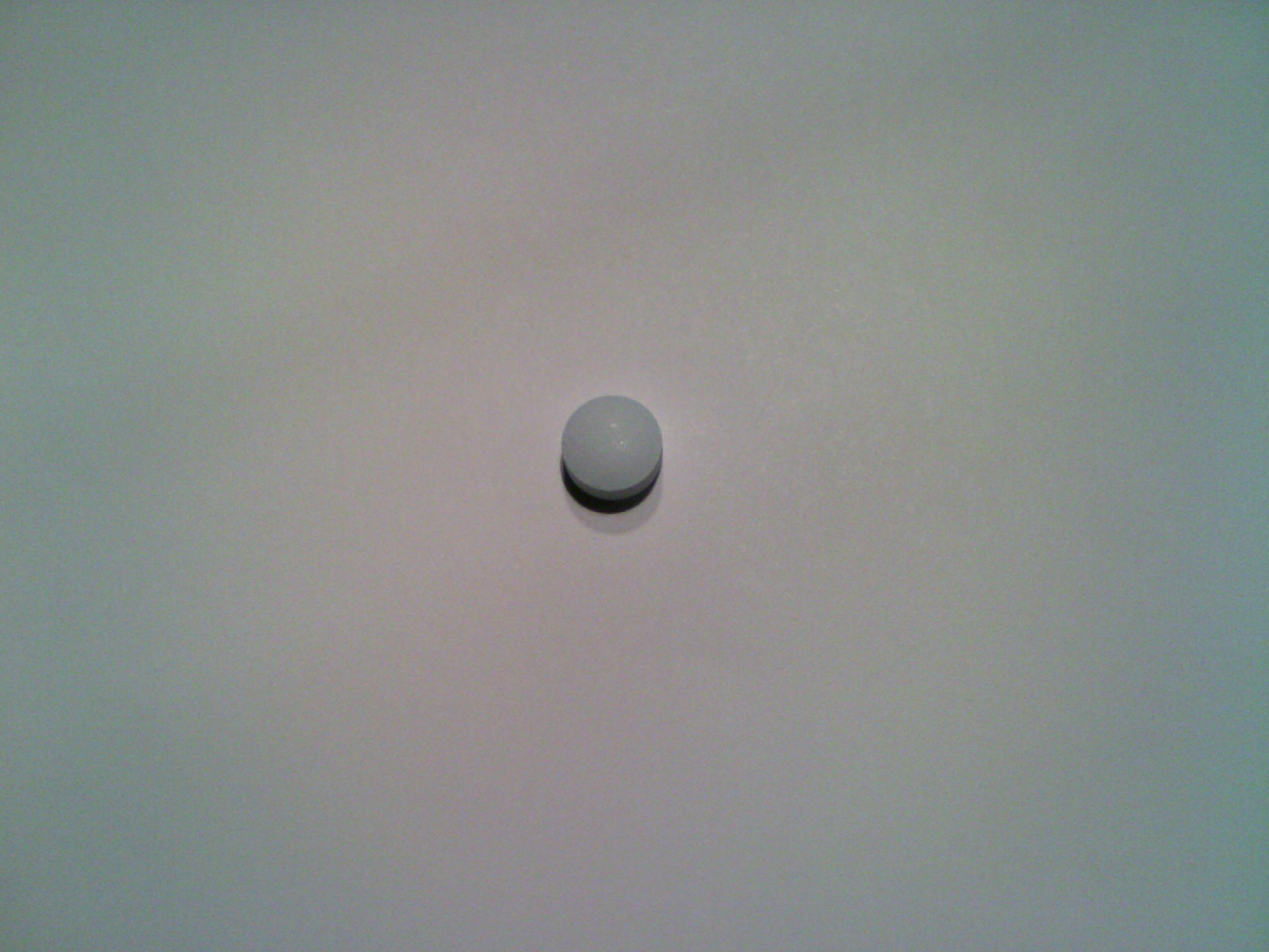Pill: (553, 385, 671, 511)
